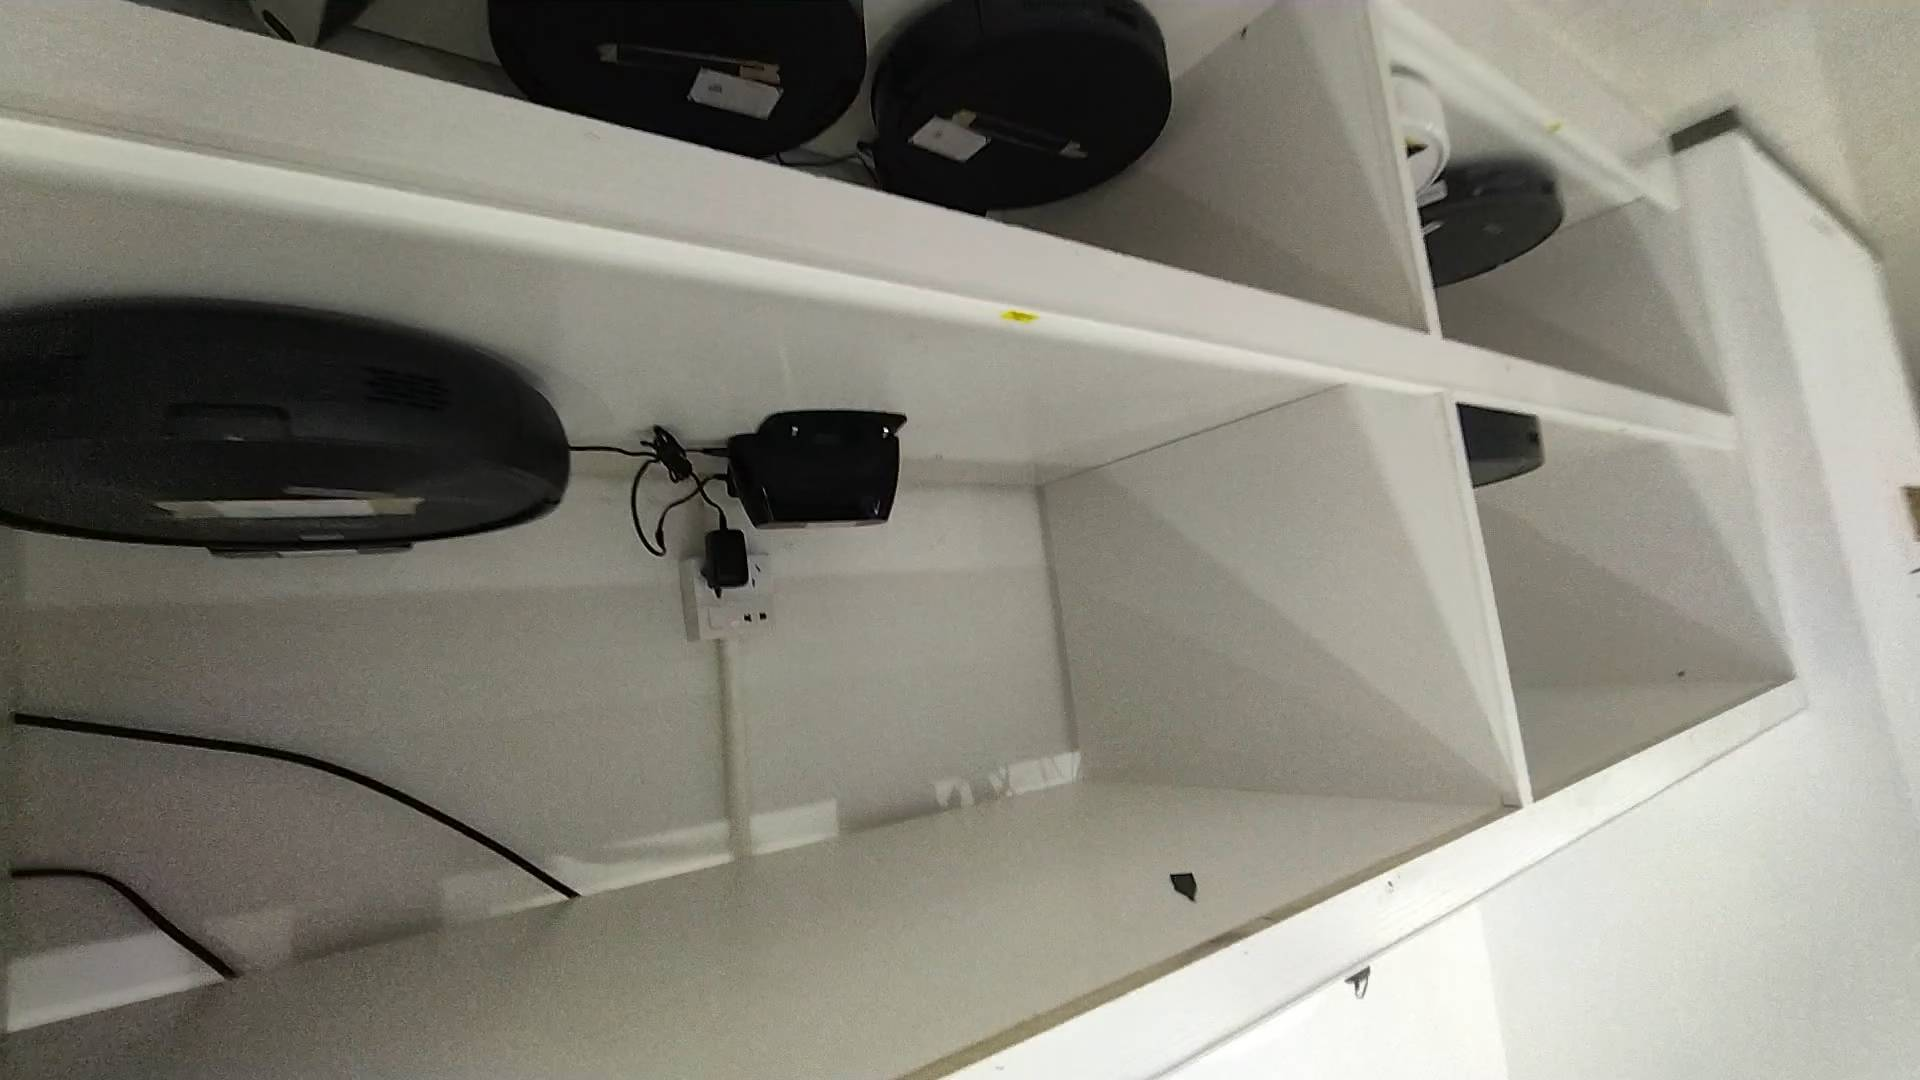recharge seat: (729, 409, 914, 527)
